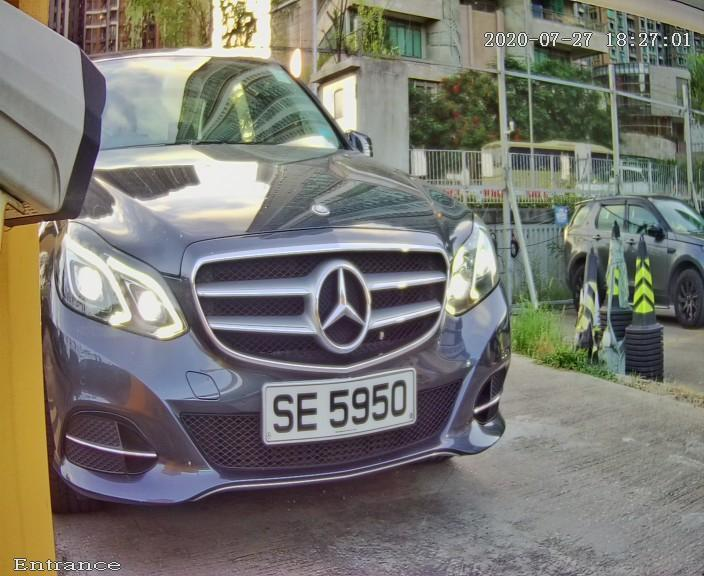privatecar: (32, 26, 541, 512)
